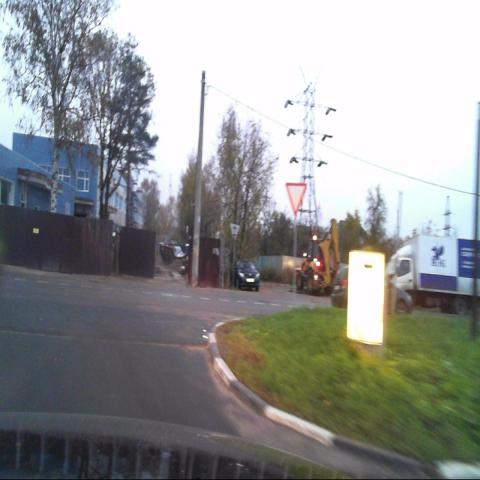2_4: (286, 183, 306, 217)
